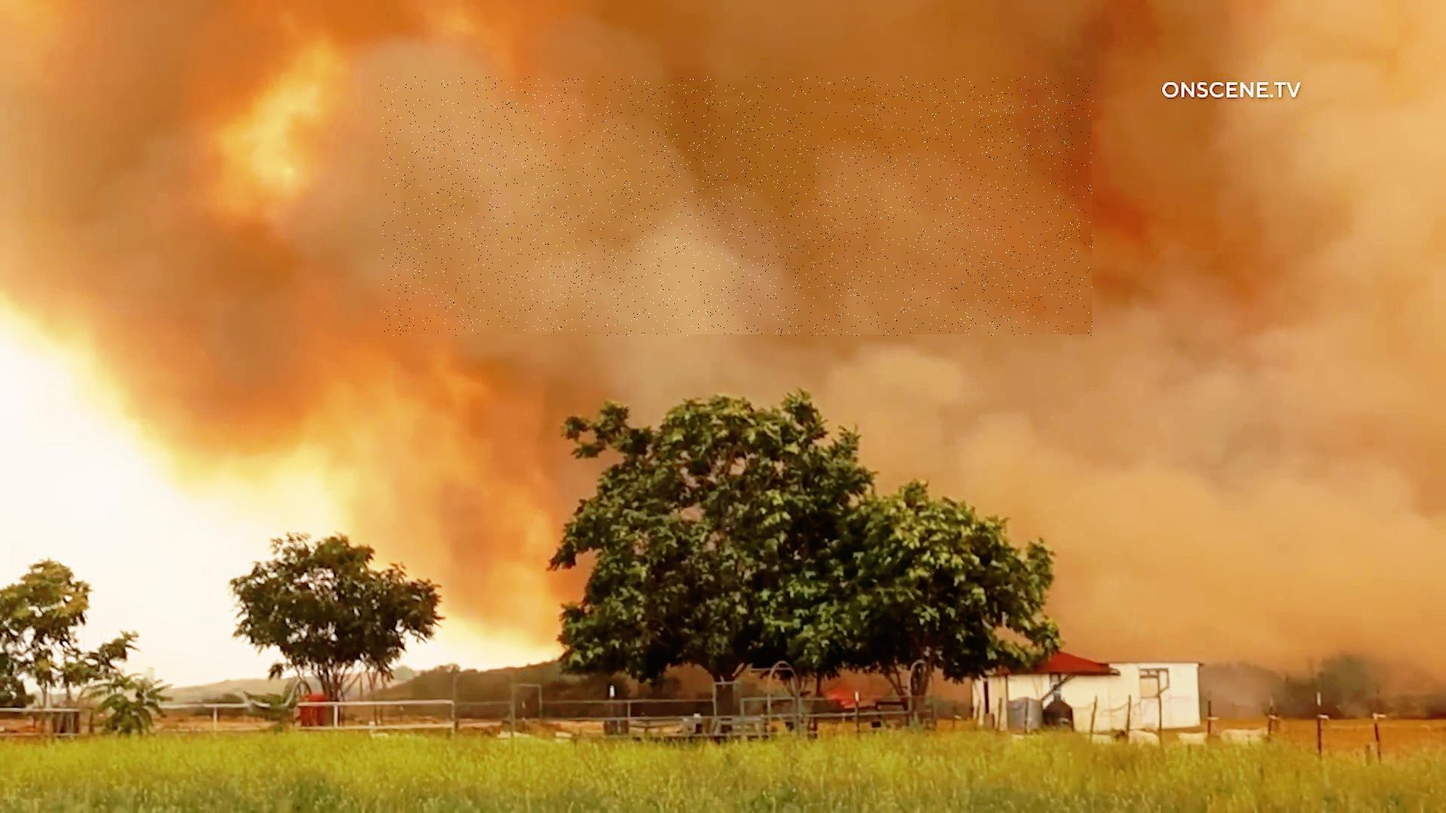smoke: (381, 77, 1094, 336)
